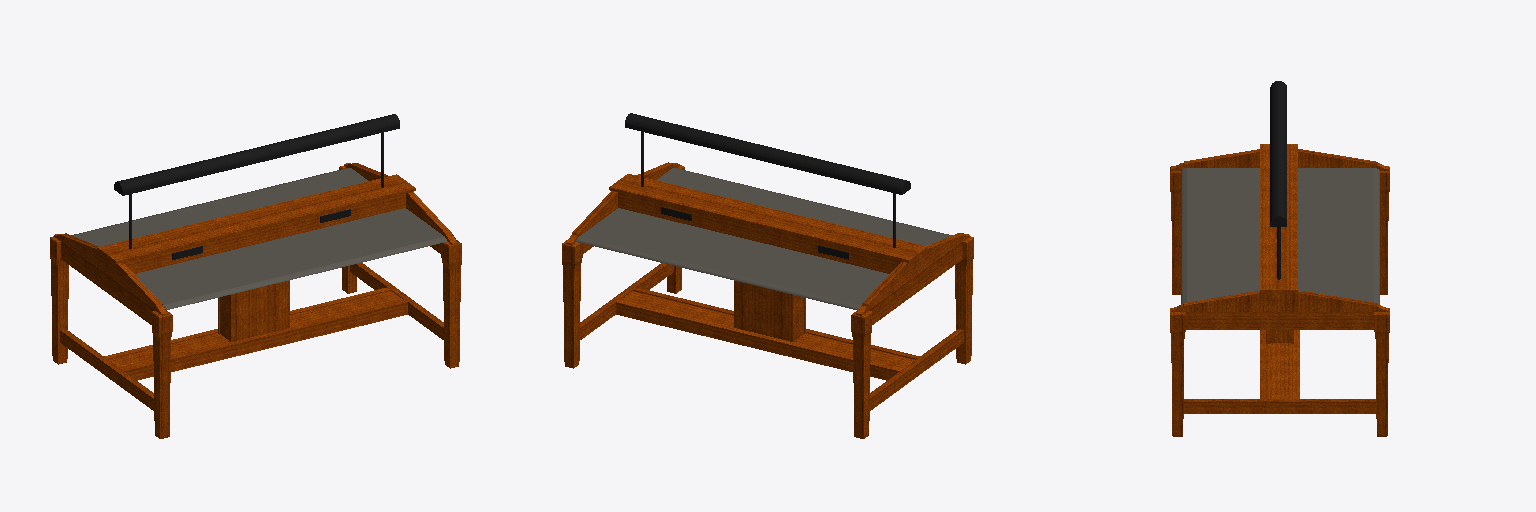
3 renders of one model, left to right at view 1: azimuth 30°, elevation 25°; view 2: azimuth 150°, elevation 25°; view 3: azimuth 270°, elevation 25°, orthographic.
Parts seen in each view (by area): view 1: Mesh1 Group_65_1 Empire1 Empire_1_1 Model, Mesh22 Group_66_1 Empire1 Empire_1_1 Model, Mesh4 Component_31_1 Empire1 Empire_1_1 Model, Mesh13 Group_62_1 Empire1 Empire_1_1 Model, Mesh18 Group_63_3 Empire1 Empire_1_1 Model, Mesh16 Group_63_1 Empire1 Empire_1_1 Model, Mesh3 Component_35_2 Empire1 Empire_1_1 Model, Mesh19 Group_63_4 Empire1 Empire_1_1 Model, Mesh21 Component_34_2 Empire1 Empire_1_1 Model, Mesh20 Component_32_2 Empire1 Empire_1_1 Model, Mesh15 Component_34_1 Empire1 Empire_1_1 Model, Mesh2 Component_35_1 Empire1 Empire_1_1 Model; view 2: Mesh1 Group_65_1 Empire1 Empire_1_1 Model, Mesh22 Group_66_1 Empire1 Empire_1_1 Model, Mesh4 Component_31_1 Empire1 Empire_1_1 Model, Mesh13 Group_62_1 Empire1 Empire_1_1 Model, Mesh19 Group_63_4 Empire1 Empire_1_1 Model, Mesh17 Group_63_2 Empire1 Empire_1_1 Model, Mesh3 Component_35_2 Empire1 Empire_1_1 Model, Mesh18 Group_63_3 Empire1 Empire_1_1 Model, Mesh21 Component_34_2 Empire1 Empire_1_1 Model, Mesh20 Component_32_2 Empire1 Empire_1_1 Model, Mesh15 Component_34_1 Empire1 Empire_1_1 Model, Mesh2 Component_35_1 Empire1 Empire_1_1 Model; view 3: Mesh1 Group_65_1 Empire1 Empire_1_1 Model, Mesh4 Component_31_1 Empire1 Empire_1_1 Model, Mesh14 Component_32_1 Empire1 Empire_1_1 Model, Mesh2 Component_35_1 Empire1 Empire_1_1 Model, Mesh15 Component_34_1 Empire1 Empire_1_1 Model, Mesh22 Group_66_1 Empire1 Empire_1_1 Model, Mesh13 Group_62_1 Empire1 Empire_1_1 Model, Mesh3 Component_35_2 Empire1 Empire_1_1 Model, Mesh16 Group_63_1 Empire1 Empire_1_1 Model, Mesh17 Group_63_2 Empire1 Empire_1_1 Model, Mesh18 Group_63_3 Empire1 Empire_1_1 Model, Mesh19 Group_63_4 Empire1 Empire_1_1 Model.
Boxes of the visible parts, <box> form: Mesh1 Group_65_1 Empire1 Empire_1_1 Model: <box>72,168,447,309</box>; Mesh22 Group_66_1 Empire1 Empire_1_1 Model: <box>104,280,407,380</box>; Mesh4 Component_31_1 Empire1 Empire_1_1 Model: <box>97,174,415,273</box>; Mesh13 Group_62_1 Empire1 Empire_1_1 Model: <box>114,114,399,195</box>; Mesh18 Group_63_3 Empire1 Empire_1_1 Model: <box>152,311,172,438</box>; Mesh16 Group_63_1 Empire1 Empire_1_1 Model: <box>441,240,461,368</box>; Mesh3 Component_35_2 Empire1 Empire_1_1 Model: <box>54,233,167,315</box>; Mesh19 Group_63_4 Empire1 Empire_1_1 Model: <box>50,236,68,364</box>; Mesh21 Component_34_2 Empire1 Empire_1_1 Model: <box>60,329,153,410</box>; Mesh20 Component_32_2 Empire1 Empire_1_1 Model: <box>61,242,154,324</box>; Mesh15 Component_34_1 Empire1 Empire_1_1 Model: <box>350,263,443,339</box>; Mesh2 Component_35_1 Empire1 Empire_1_1 Model: <box>344,163,457,244</box>; Mesh1 Group_65_1 Empire1 Empire_1_1 Model: <box>576,168,951,310</box>; Mesh22 Group_66_1 Empire1 Empire_1_1 Model: <box>616,281,919,380</box>; Mesh4 Component_31_1 Empire1 Empire_1_1 Model: <box>609,174,927,273</box>; Mesh13 Group_62_1 Empire1 Empire_1_1 Model: <box>625,113,910,194</box>; Mesh19 Group_63_4 Empire1 Empire_1_1 Model: <box>851,311,871,438</box>; Mesh17 Group_63_2 Empire1 Empire_1_1 Model: <box>562,240,582,368</box>; Mesh3 Component_35_2 Empire1 Empire_1_1 Model: <box>856,233,969,315</box>; Mesh18 Group_63_3 Empire1 Empire_1_1 Model: <box>955,236,973,364</box>; Mesh21 Component_34_2 Empire1 Empire_1_1 Model: <box>870,329,963,410</box>; Mesh20 Component_32_2 Empire1 Empire_1_1 Model: <box>869,242,962,324</box>; Mesh15 Component_34_1 Empire1 Empire_1_1 Model: <box>580,263,673,339</box>; Mesh2 Component_35_1 Empire1 Empire_1_1 Model: <box>566,162,679,244</box>; Mesh1 Group_65_1 Empire1 Empire_1_1 Model: <box>1181,168,1379,304</box>; Mesh4 Component_31_1 Empire1 Empire_1_1 Model: <box>1260,144,1297,293</box>; Mesh14 Component_32_1 Empire1 Empire_1_1 Model: <box>1186,312,1373,329</box>; Mesh2 Component_35_1 Empire1 Empire_1_1 Model: <box>1171,290,1388,311</box>; Mesh15 Component_34_1 Empire1 Empire_1_1 Model: <box>1184,399,1375,413</box>; Mesh22 Group_66_1 Empire1 Empire_1_1 Model: <box>1260,330,1299,398</box>; Mesh13 Group_62_1 Empire1 Empire_1_1 Model: <box>1270,81,1286,226</box>; Mesh3 Component_35_2 Empire1 Empire_1_1 Model: <box>1171,149,1388,170</box>; Mesh16 Group_63_1 Empire1 Empire_1_1 Model: <box>1170,308,1185,436</box>; Mesh17 Group_63_2 Empire1 Empire_1_1 Model: <box>1374,308,1389,436</box>; Mesh18 Group_63_3 Empire1 Empire_1_1 Model: <box>1170,167,1180,294</box>; Mesh19 Group_63_4 Empire1 Empire_1_1 Model: <box>1380,167,1389,294</box>.
Size of the model in its own units: 76.88 by 52.26 by 48.25.
Materials: 3 (1 with a texture image).